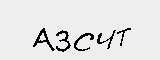А: (33, 27, 53, 52)
З: (53, 27, 73, 55)
С: (76, 27, 94, 55)
Т: (115, 27, 133, 47)
Ч: (97, 30, 113, 51)
